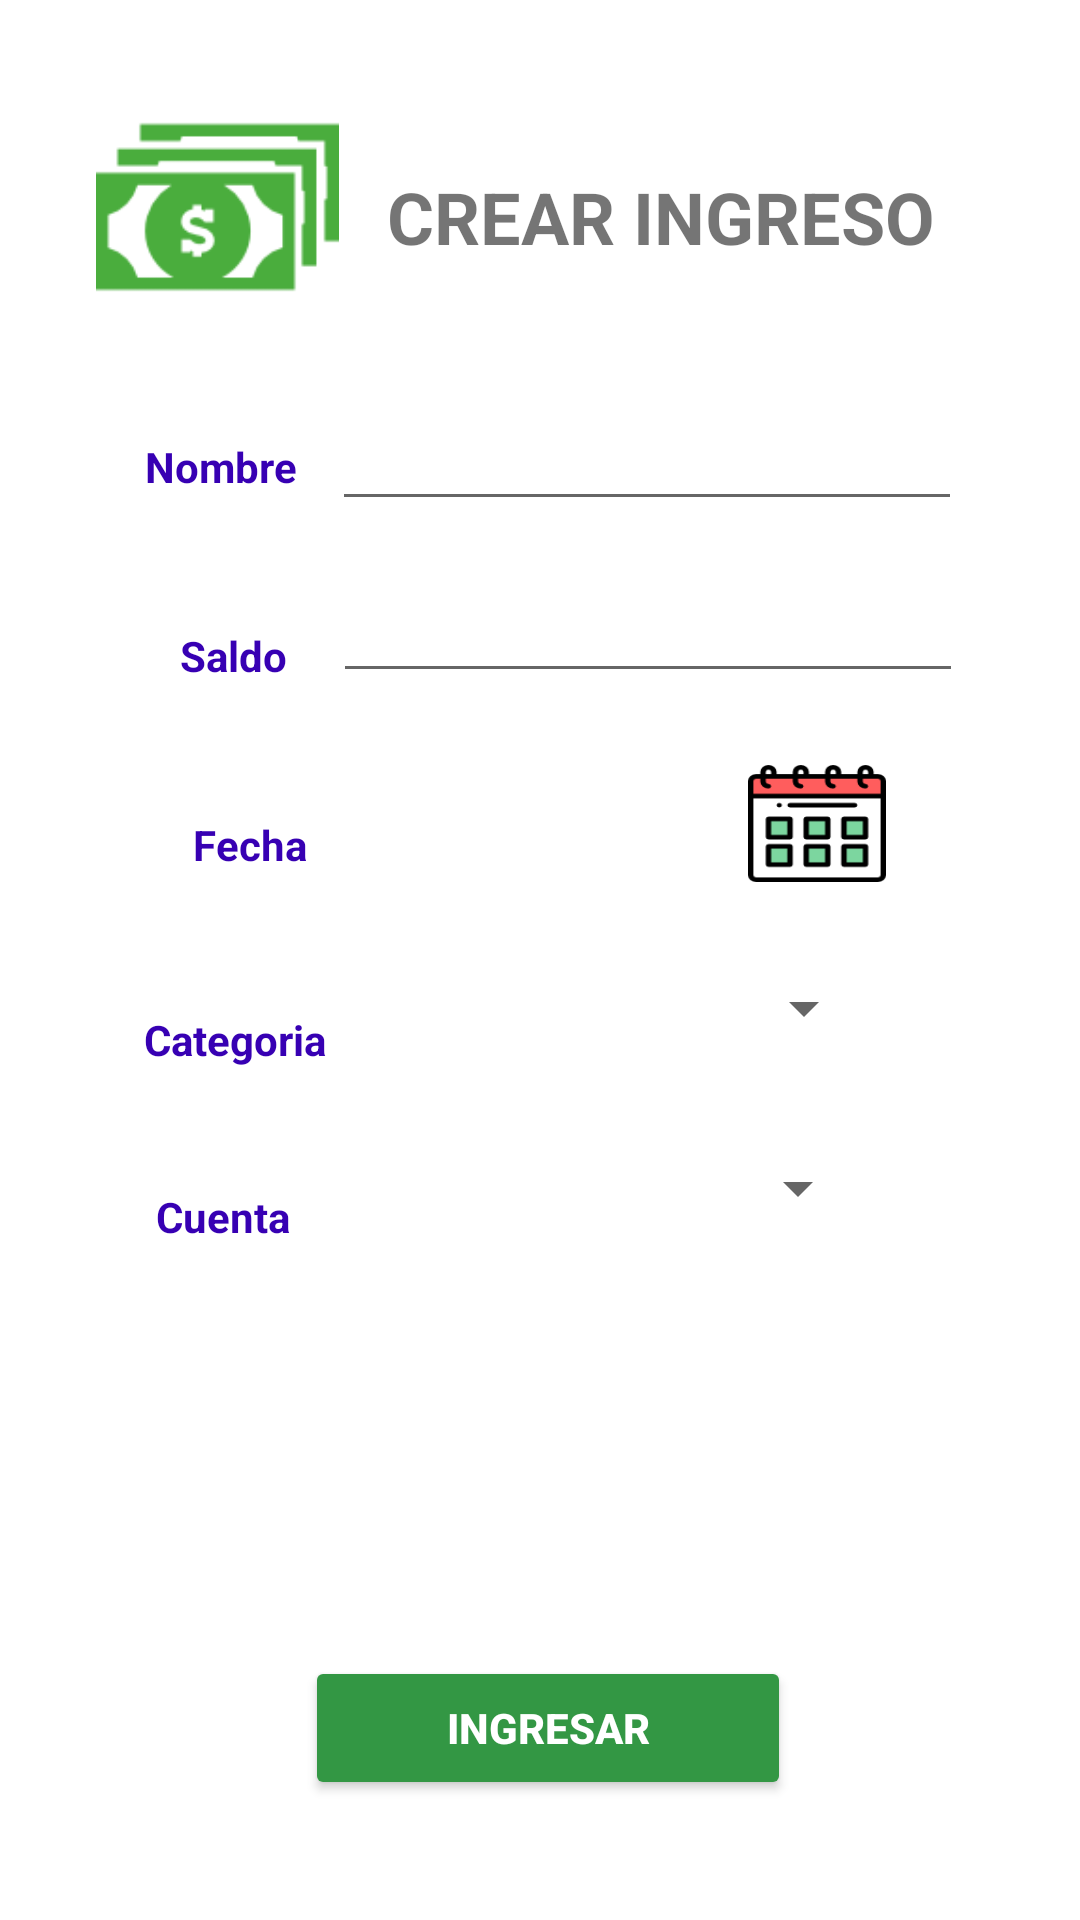

Icon bounding boxes for this 1080x1920 phone screenshot, format [x1, y1, x2, y2]:
billetes: [96, 123, 339, 291]
calendario: [748, 765, 886, 882]
